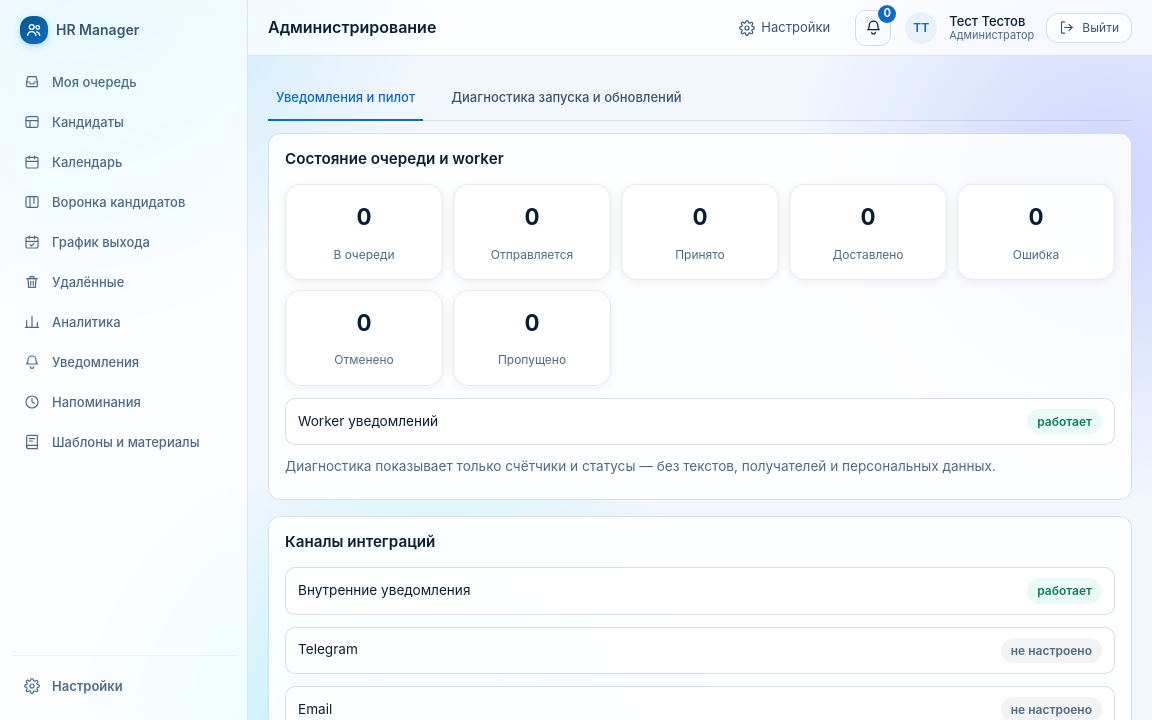
Диагностика в администрировании › в администрировании две вкладки, диагностика показывает отчёт и пояснение
The image size is (1152, 720).
Expected: the tab "Уведомления и пилот" is shown, [268, 76, 423, 121]
Click the tab "Диагностика запуска и обновлений" at coordinates (566, 98), box [443, 76, 690, 121]
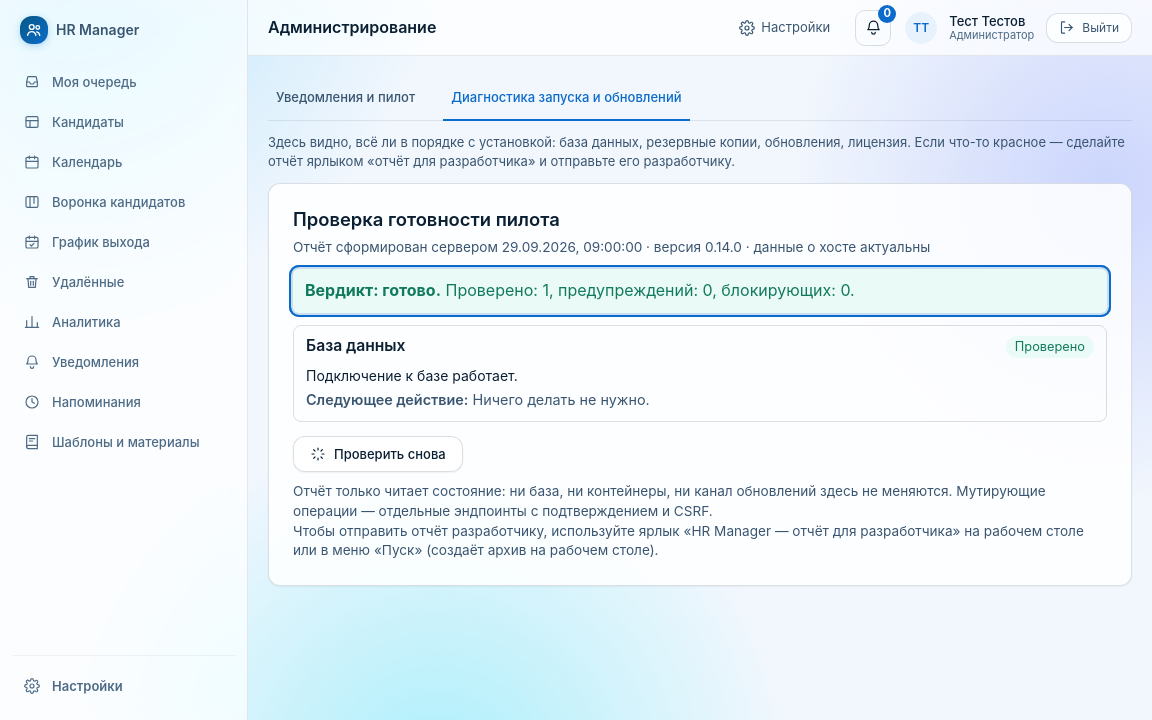
Expected: the text "всё ли в порядке с установкой" is shown, [268, 134, 1125, 169]
Expected: the text "HR Manager — отчёт для разработчика" is shown, [293, 523, 1084, 558]
Expected: the text "Вердикт: готово." is shown, [305, 280, 441, 300]
